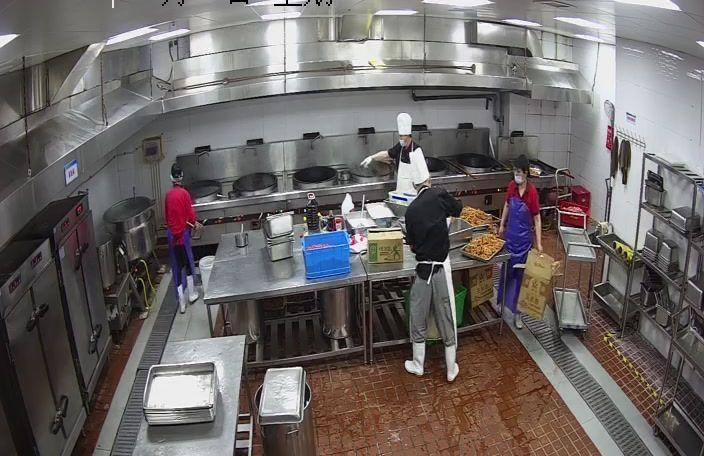mask: (514, 174, 525, 184)
